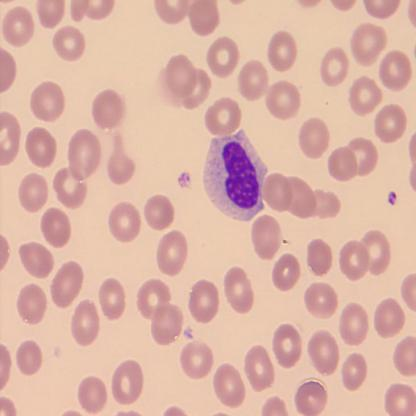Metamyelocyte: (201, 124, 271, 223)
